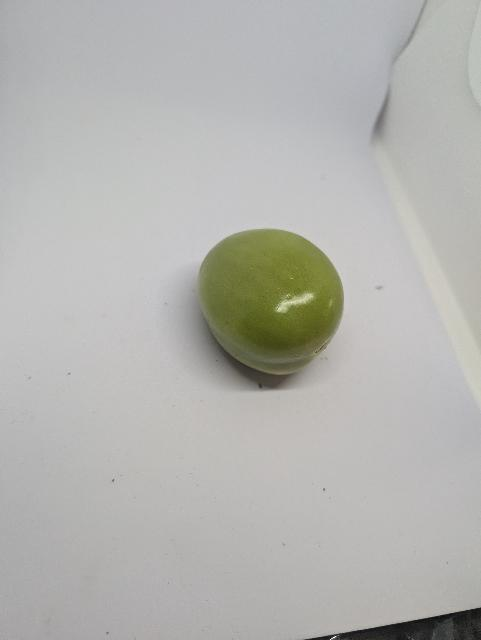green: (197, 226, 348, 377)
